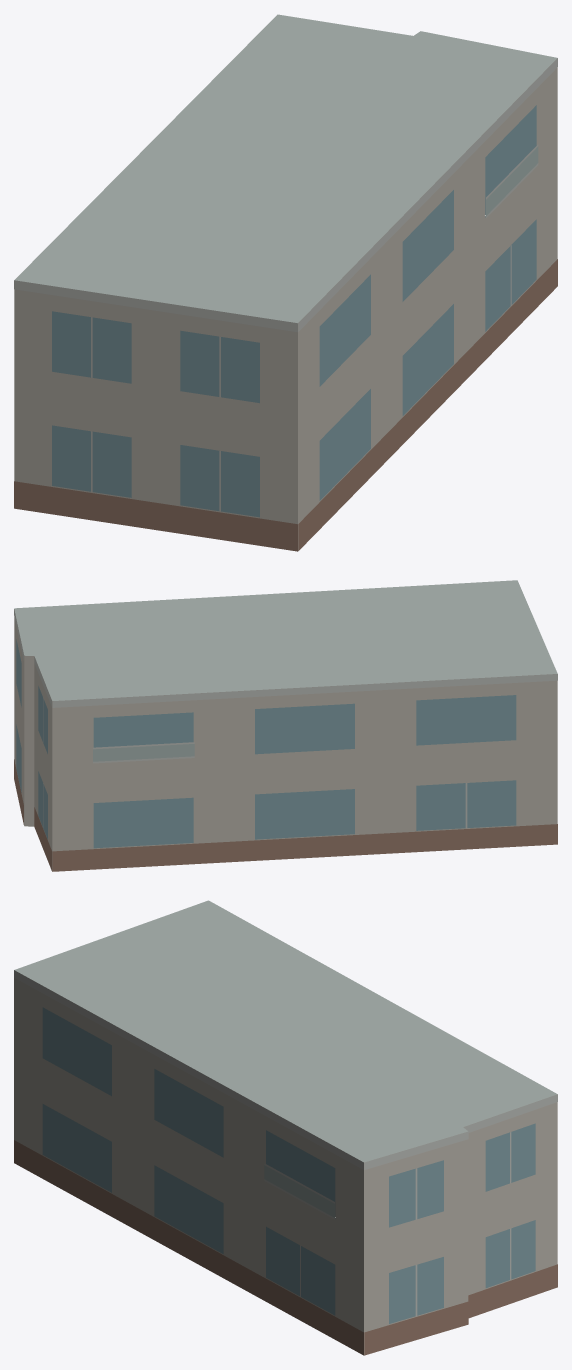
The model's file is survey-upis-32920819.glb.
3 renders of one model, top to bottom at view 1: azimuth 30°, elevation 25°; view 2: azimuth 150°, elevation 25°; view 3: azimuth 270°, elevation 25°, orthographic. The views are drawn at different scales.
Visible parts, largest first — view 1: survey-upis-32920819.tmp; view 2: survey-upis-32920819.tmp; view 3: survey-upis-32920819.tmp.
Part boxes in pixels (left/top/right/bottom): survey-upis-32920819.tmp: left=14, top=14, right=557, bottom=551; survey-upis-32920819.tmp: left=14, top=580, right=557, bottom=871; survey-upis-32920819.tmp: left=14, top=900, right=557, bottom=1355.
Size of the model in its own units: 17.78 by 6.1 by 15.58.
